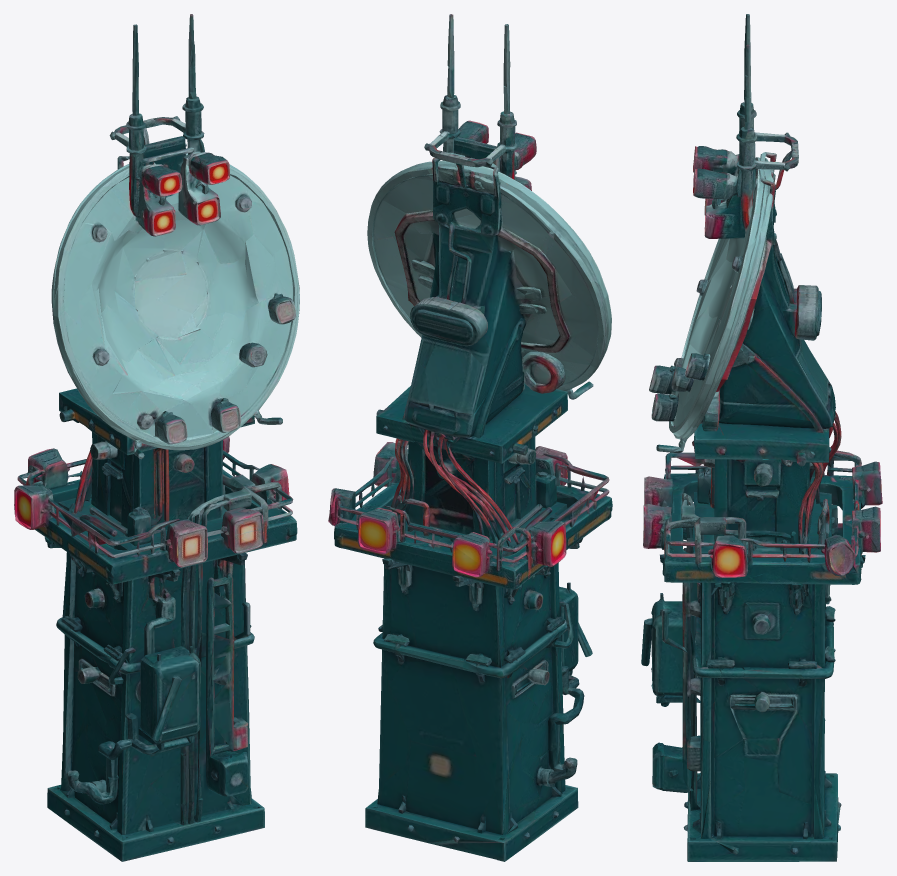
Rendered from mx_wz_comms.glb.
3 renders of one model, left to right at view 1: azimuth 30°, elevation 25°; view 2: azimuth 150°, elevation 25°; view 3: azimuth 270°, elevation 25°, orthographic.
Size of the model in its own units: 0.593 by 1.9 by 0.5205.
1 material, 1 textured.
